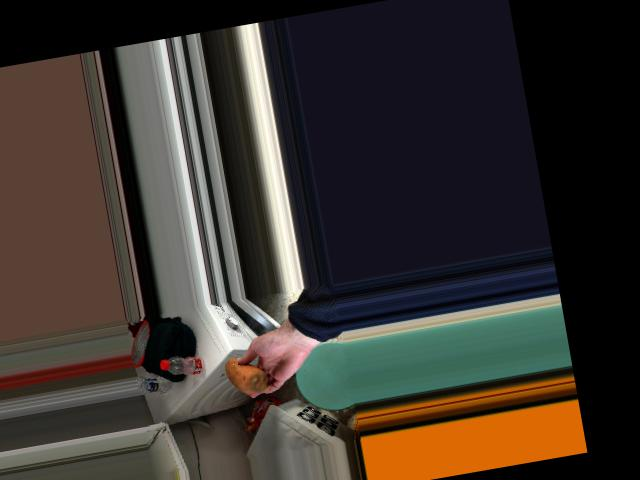sweet_potato: (223, 348, 274, 394)
